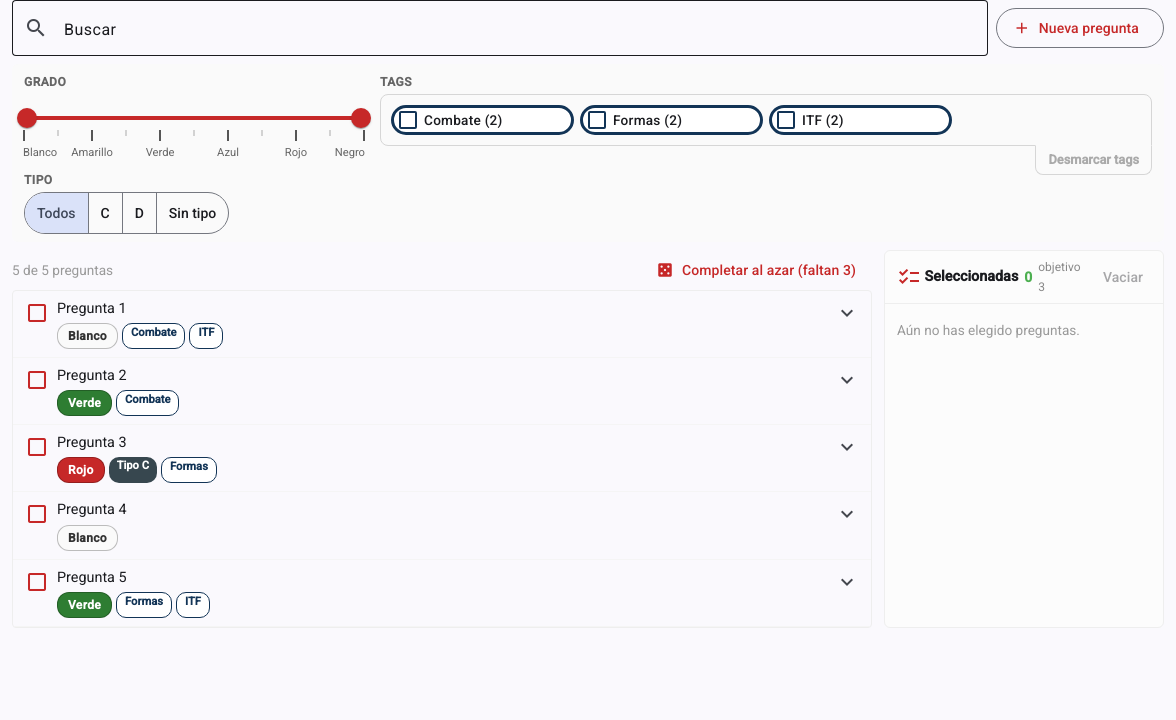
it: ExamQuestionPickerComponent › filtro por tags › marcar un tag muestra las preguntas que lo tienen, aunque tengan más tags
The width and height of the screenshot is (1176, 720).
Click the element showing "Combate (2)" at (482, 120), box top-left (391, 105), bottom-right (574, 135)
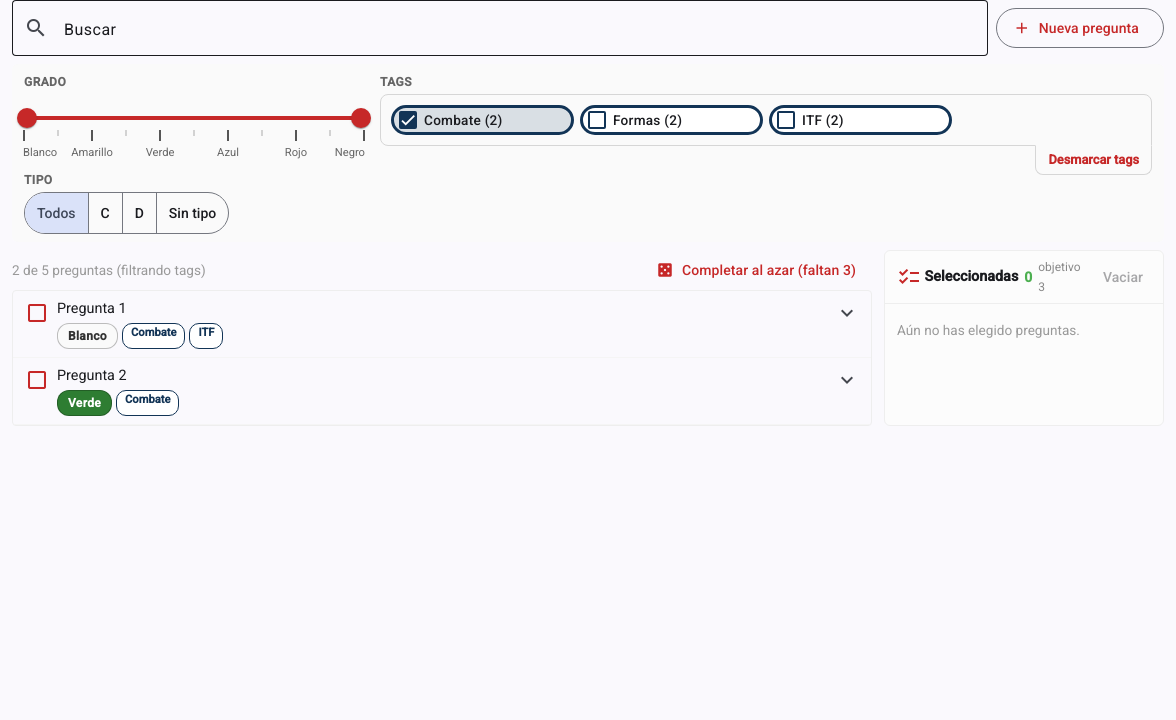
Check: the element with class "list-header" shows "2 de 5 preguntas (filtrando tags)", box top-left (12, 250), bottom-right (872, 290)
